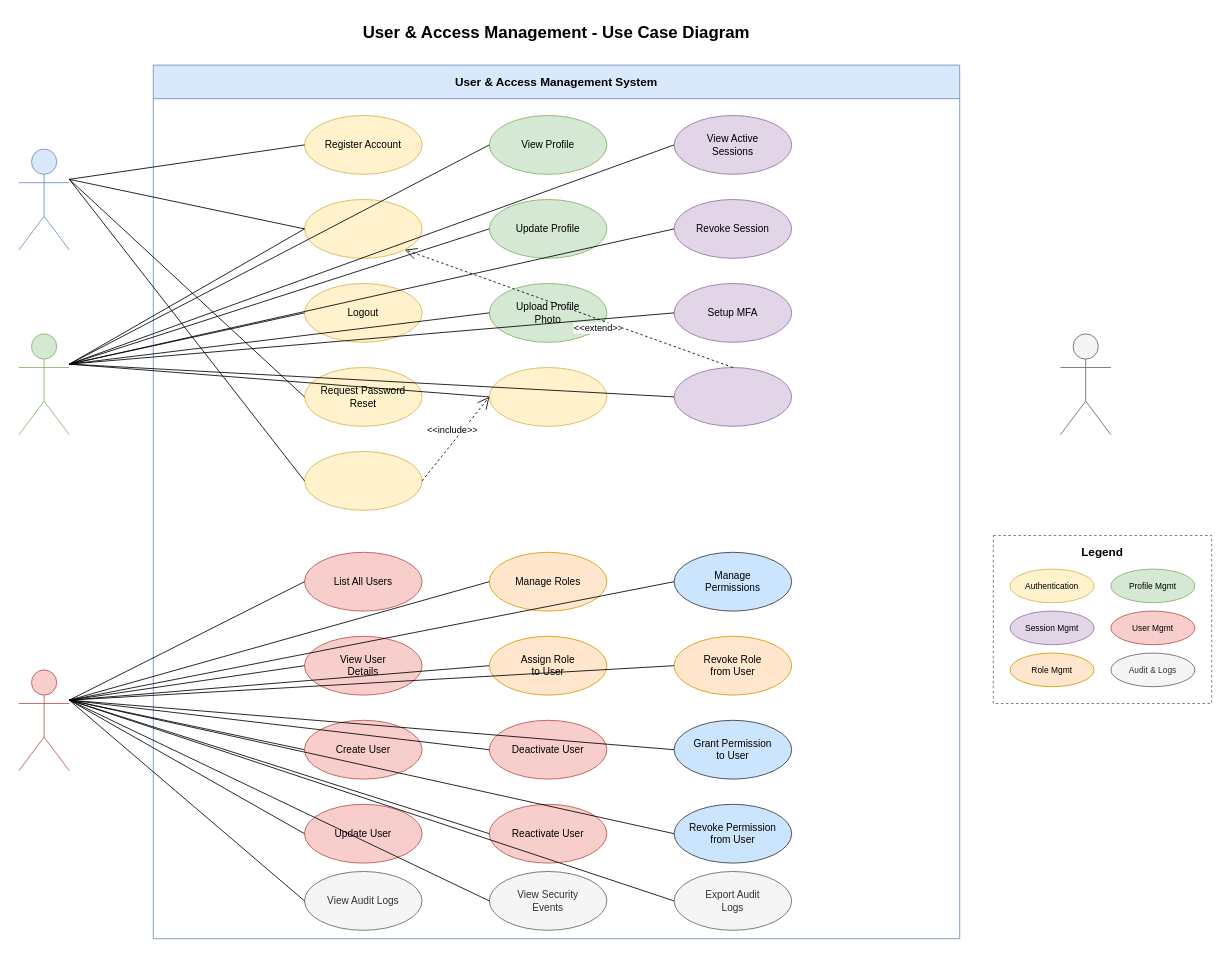
Image size: 1226x953. Some labels were removed from this diagram. The centre of each missing label's shape, as x and y in pixels:
"Administrator" goes at pixel 43 720.
"Change Password" goes at pixel 547 396.
"Guest" goes at pixel 43 199.
"Login" goes at pixel 363 228.
"Reset Password" goes at pixel 363 480.
"System" goes at pixel 1085 384.
"User" goes at pixel 43 384.
"Verify MFA" goes at pixel 732 396.
